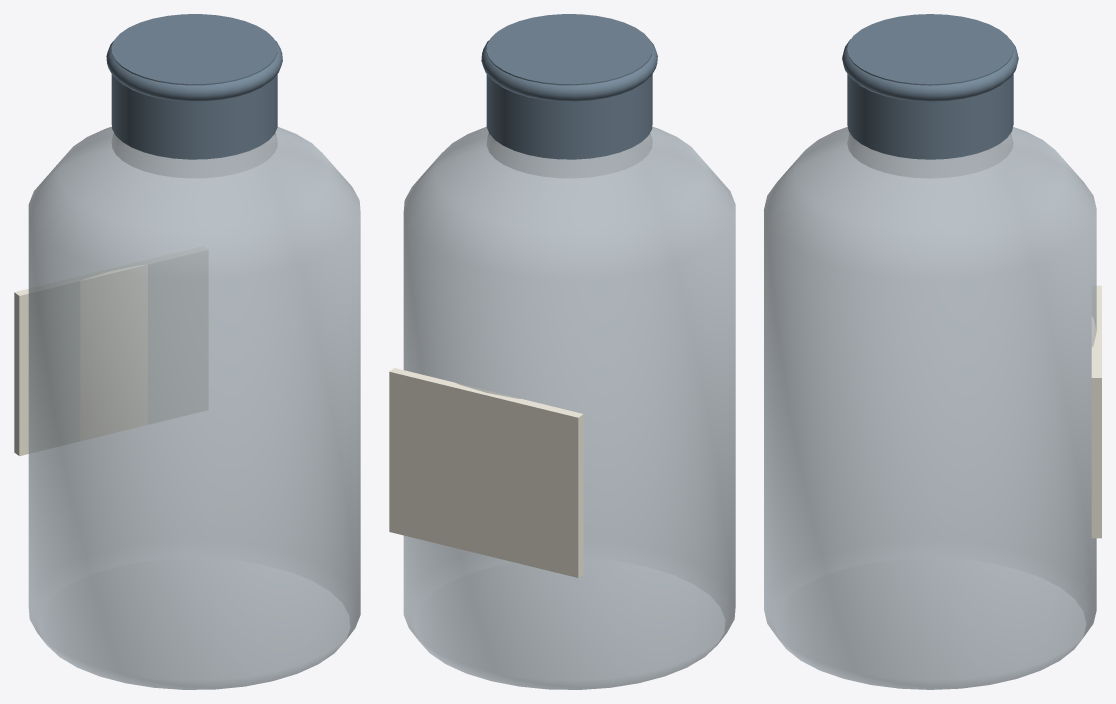
File: reagent_bottle.glb
3 views of the same model, side by side, from view 1: azimuth 30°, elevation 25°; view 2: azimuth 150°, elevation 25°; view 3: azimuth 270°, elevation 25° (orthographic).
Parts seen in each view (by area): view 1: reagent_bottle; view 2: reagent_bottle; view 3: reagent_bottle.
Boxes of the visible parts, x1,y1,x2,y2 form: reagent_bottle: [14, 14, 360, 689]; reagent_bottle: [389, 14, 735, 689]; reagent_bottle: [764, 14, 1101, 689].
Size of the model in its own units: 0.64 by 1.22 by 0.65.
